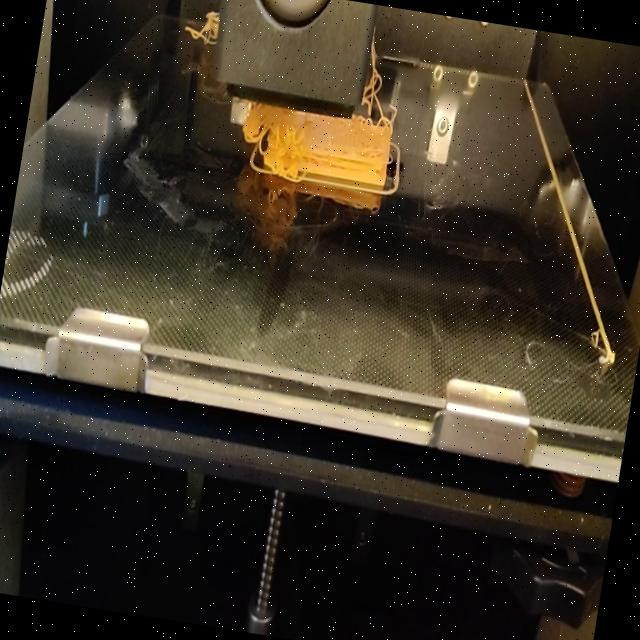spaghetti: (232, 100, 314, 189), (358, 32, 404, 124), (181, 0, 224, 51)
